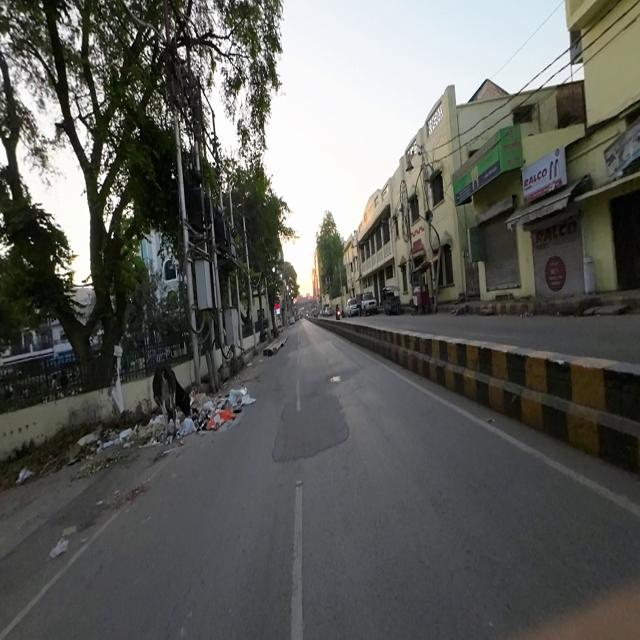Garbage: (116, 416, 163, 453), (197, 392, 231, 434), (233, 386, 255, 414), (16, 470, 40, 490), (97, 438, 114, 454)
